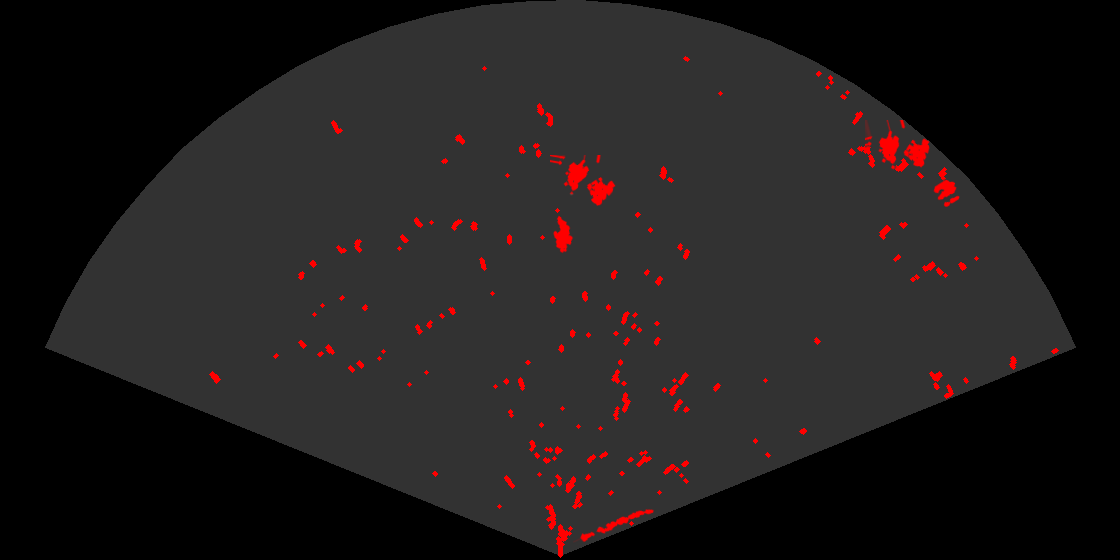AUV: (552, 214, 575, 255)
ball: (932, 178, 961, 209)
cage: (550, 155, 617, 207), (865, 120, 931, 171)
chain: (573, 507, 656, 544)
